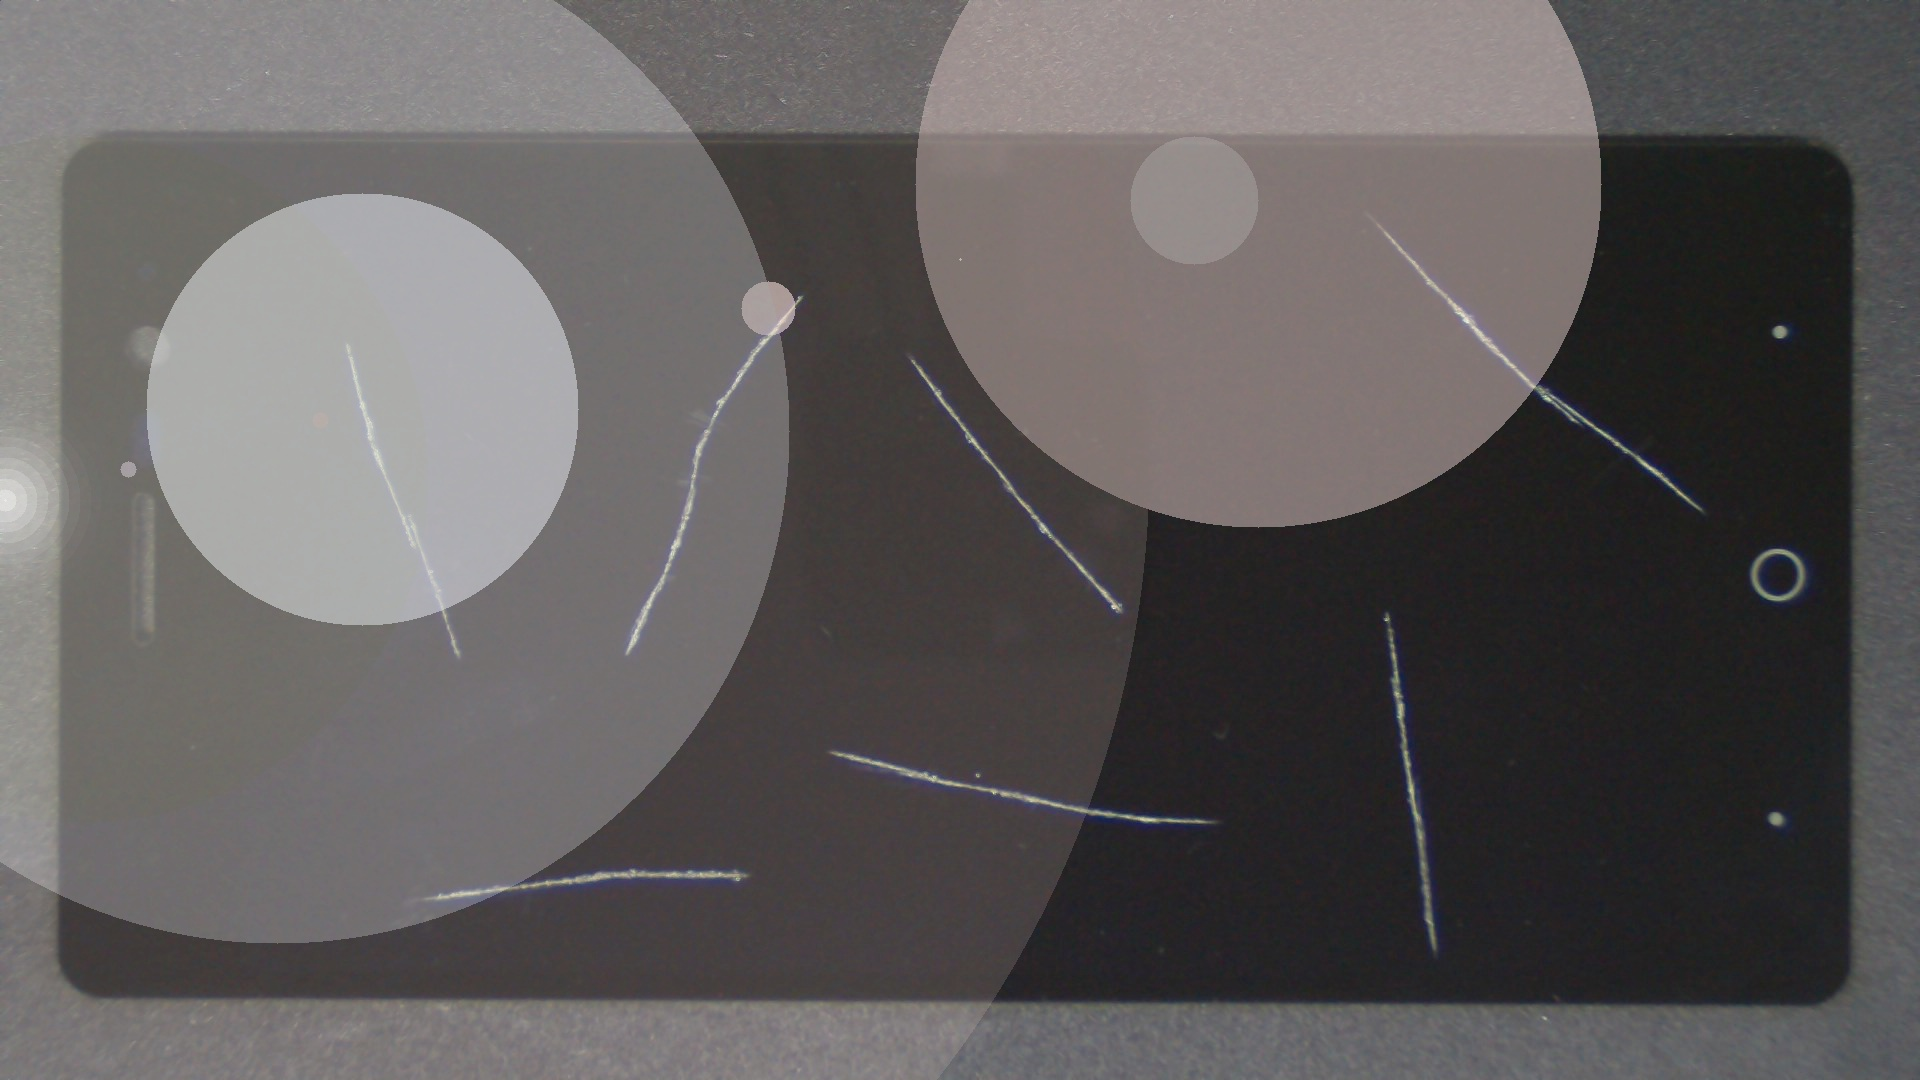oil: (694, 305, 1920, 916), (415, 373, 1245, 1080), (316, 433, 949, 1080), (456, 177, 1364, 534), (682, 104, 1920, 318), (402, 146, 1205, 442), (174, 170, 520, 512)
